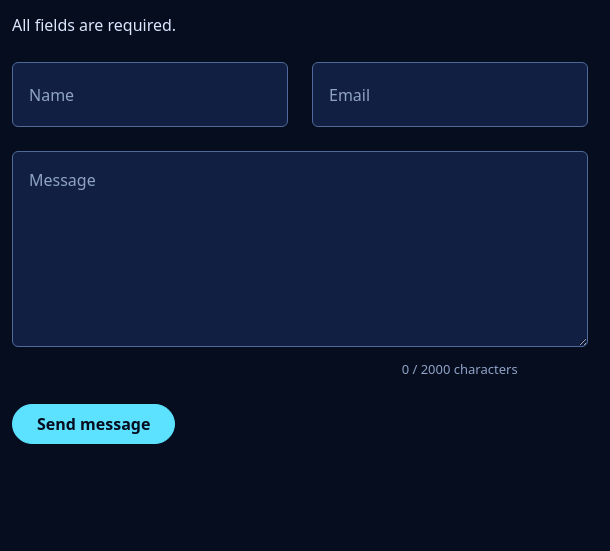
Scenario: ContactForm › shows an error and keeps the text when Web3Forms says no
The image size is (610, 551).
Step 1. Type "Ada Lovelace" into the field labelled "Name" → (150, 95), box [12,62,288,127]
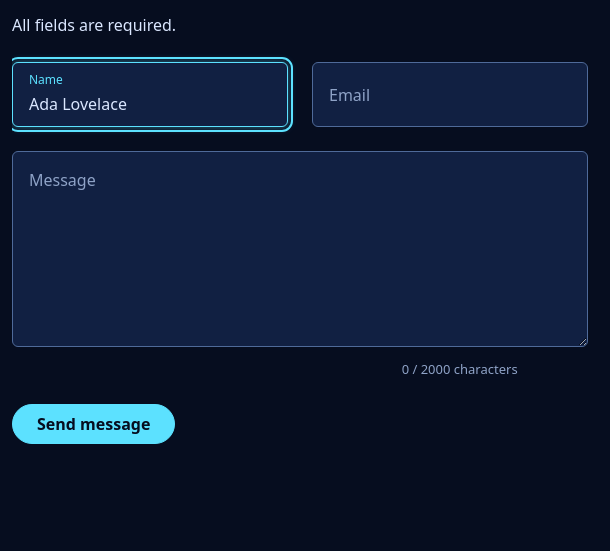
Step 2. Type "ada@example.com" into the field labelled "Email" → (450, 95), box [312,62,588,127]
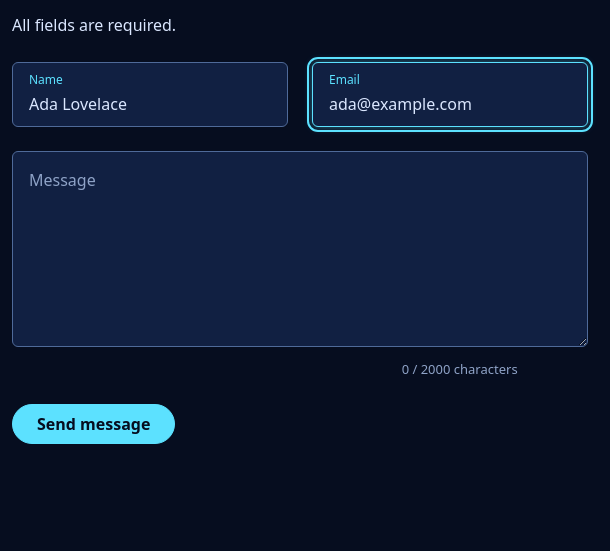
Step 3. Type "Hello! I would like to talk about a project." into the text box labelled "Message" → (300, 249), box [12,151,588,347]
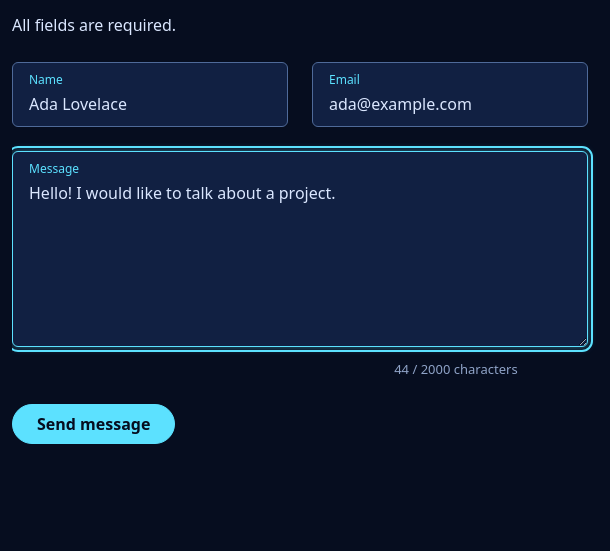
Step 4. Click the button "Send message" → (94, 424), box [12,404,175,444]
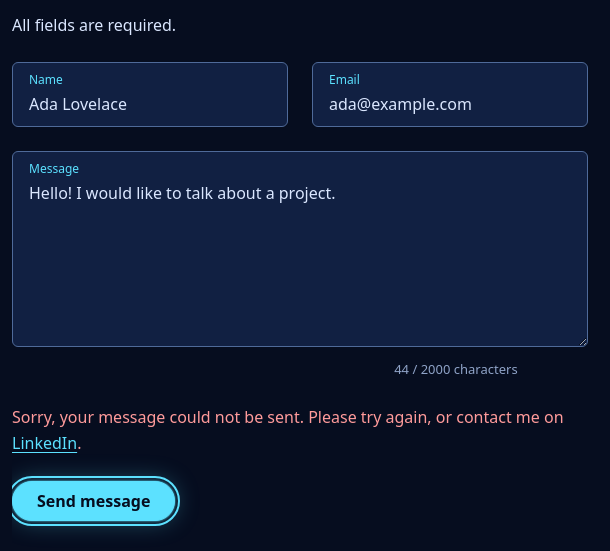
Expected: the message shows "could not be sent", [12,406,564,428]
